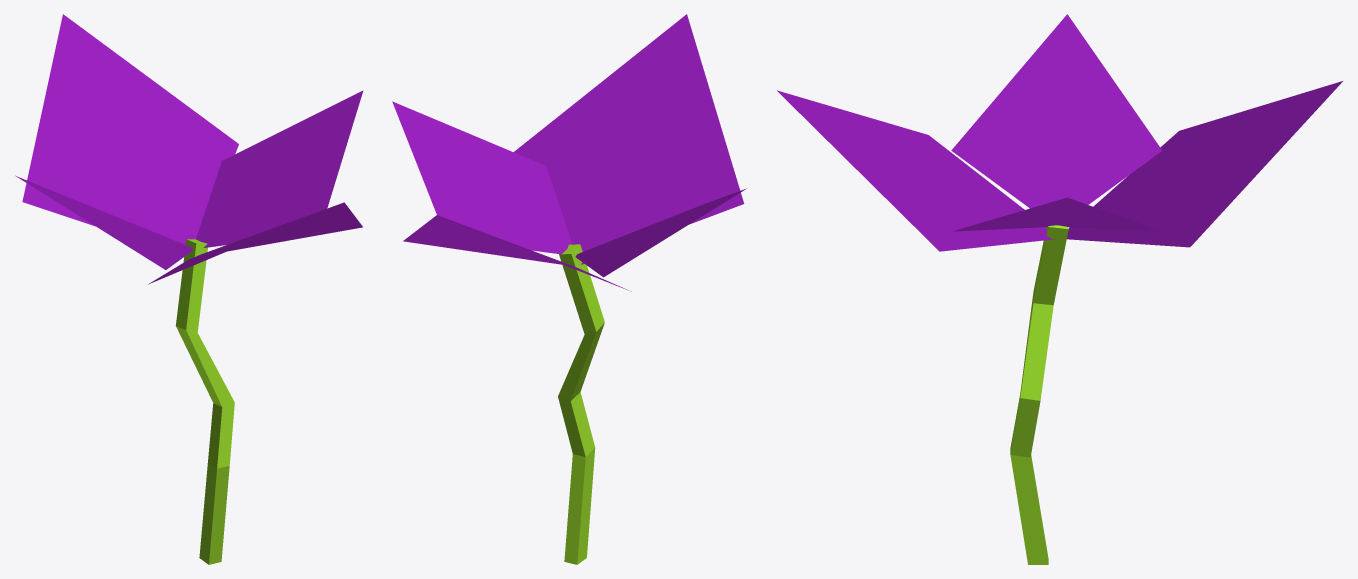
File: violet.glb
3 views of the same model, side by side, from view 1: azimuth 30°, elevation 25°; view 2: azimuth 150°, elevation 25°; view 3: azimuth 270°, elevation 25° (orthographic). The views are drawn at different scales.
Visible parts, largest first — view 1: Circle.003, Circle.001, Cube, Circle, Circle.002; view 2: Circle.002, Circle.001, Cube, Circle, Circle.003; view 3: Circle, Circle.003, Circle.002, Cube, Circle.001.
Part boxes in pixels (x1,y1,x2,y2): Circle.003: [22, 14, 238, 256]; Circle.001: [196, 90, 363, 247]; Cube: [175, 239, 234, 564]; Circle: [15, 175, 193, 269]; Circle.002: [148, 202, 362, 284]; Circle.002: [514, 14, 744, 264]; Circle.001: [392, 101, 572, 254]; Cube: [558, 244, 604, 564]; Circle: [575, 188, 746, 277]; Circle.003: [403, 215, 631, 291]; Circle: [951, 14, 1162, 208]; Circle.003: [1067, 81, 1342, 247]; Circle.002: [777, 90, 1053, 251]; Cube: [1010, 225, 1068, 564]; Circle.001: [953, 197, 1161, 231].
Bounding box in the file's own units: 2.31 × 2.8 × 3.02.
